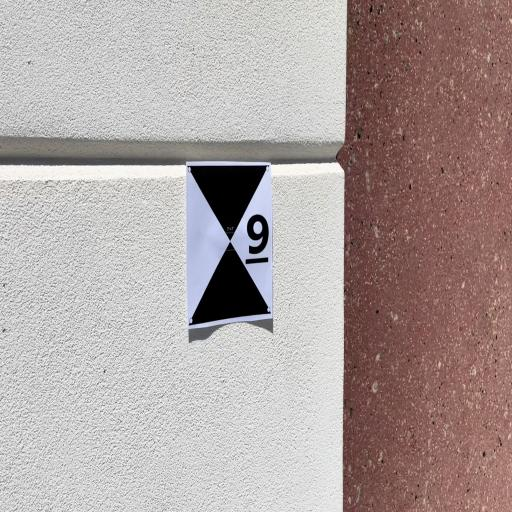target9: (186, 162, 273, 331)
